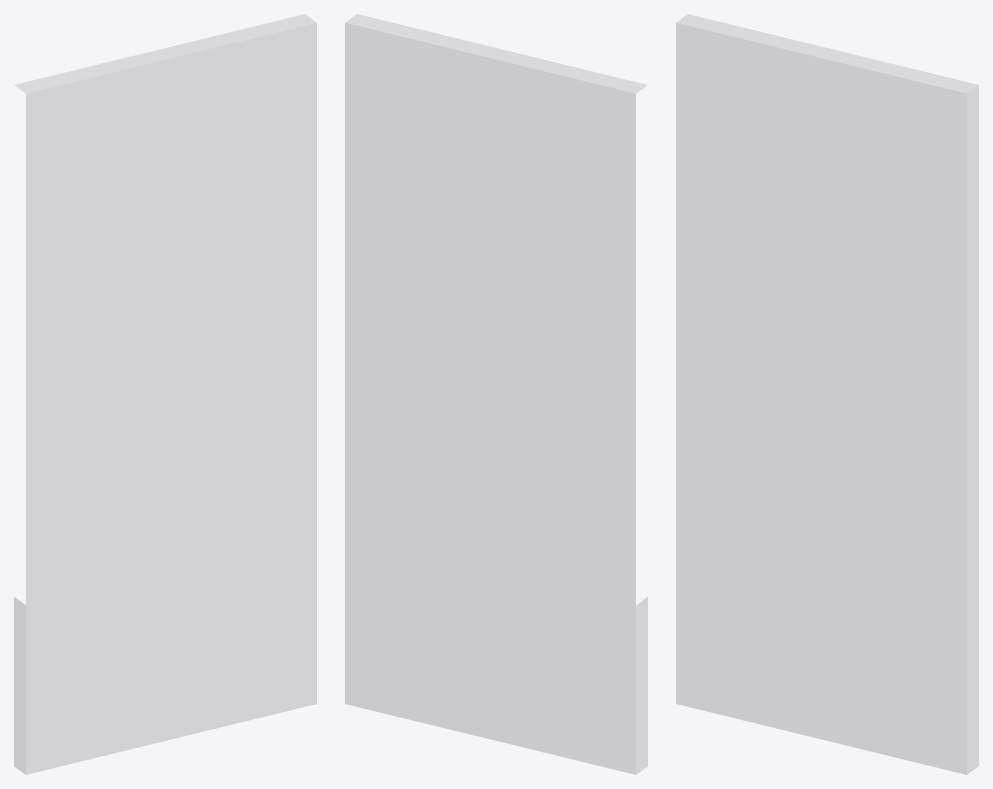
Rendered from Entrance_DoorLeft.glb.
3 renders of one model, left to right at view 1: azimuth 30°, elevation 25°; view 2: azimuth 150°, elevation 25°; view 3: azimuth 330°, elevation 25°, orthographic.
Parts seen in each view (by area): view 1: Entrance_DoorLeft; view 2: Entrance_DoorLeft; view 3: Entrance_DoorLeft.
Part boxes in pixels (x1,y1,x2,y2): Entrance_DoorLeft: (14,14,316,774); Entrance_DoorLeft: (345,14,647,774); Entrance_DoorLeft: (676,14,978,774).
Size of what is drawn, in the model's own units: 2.24 by 5.01 by 0.1587.
1 material, 1 textured.
